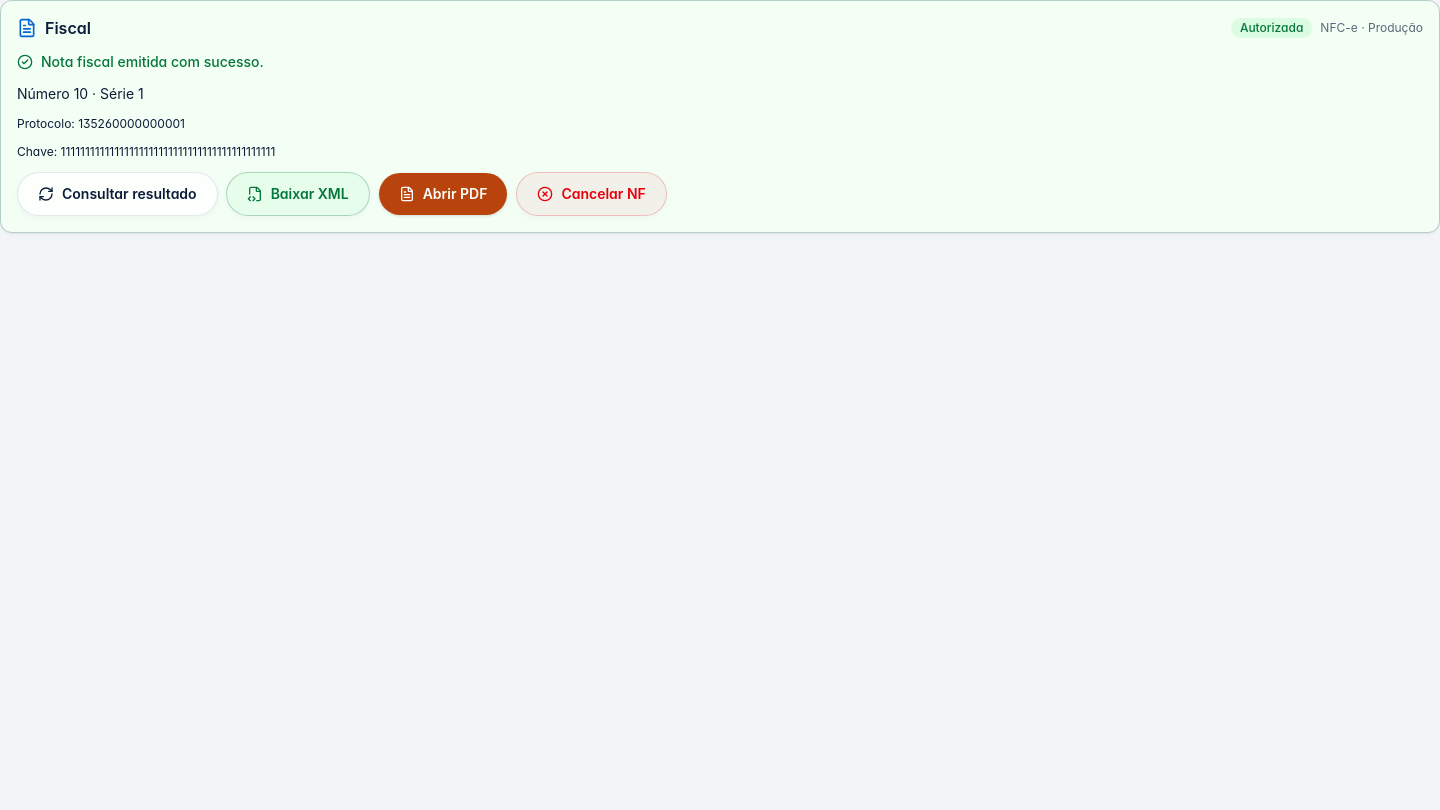
preserva arquivos e exibe recusa ou pendência de cancelamento (false) no resultado autorizado
Click the button "Cancelar NF" at [592, 194], box left=516, top=172, right=667, bottom=216
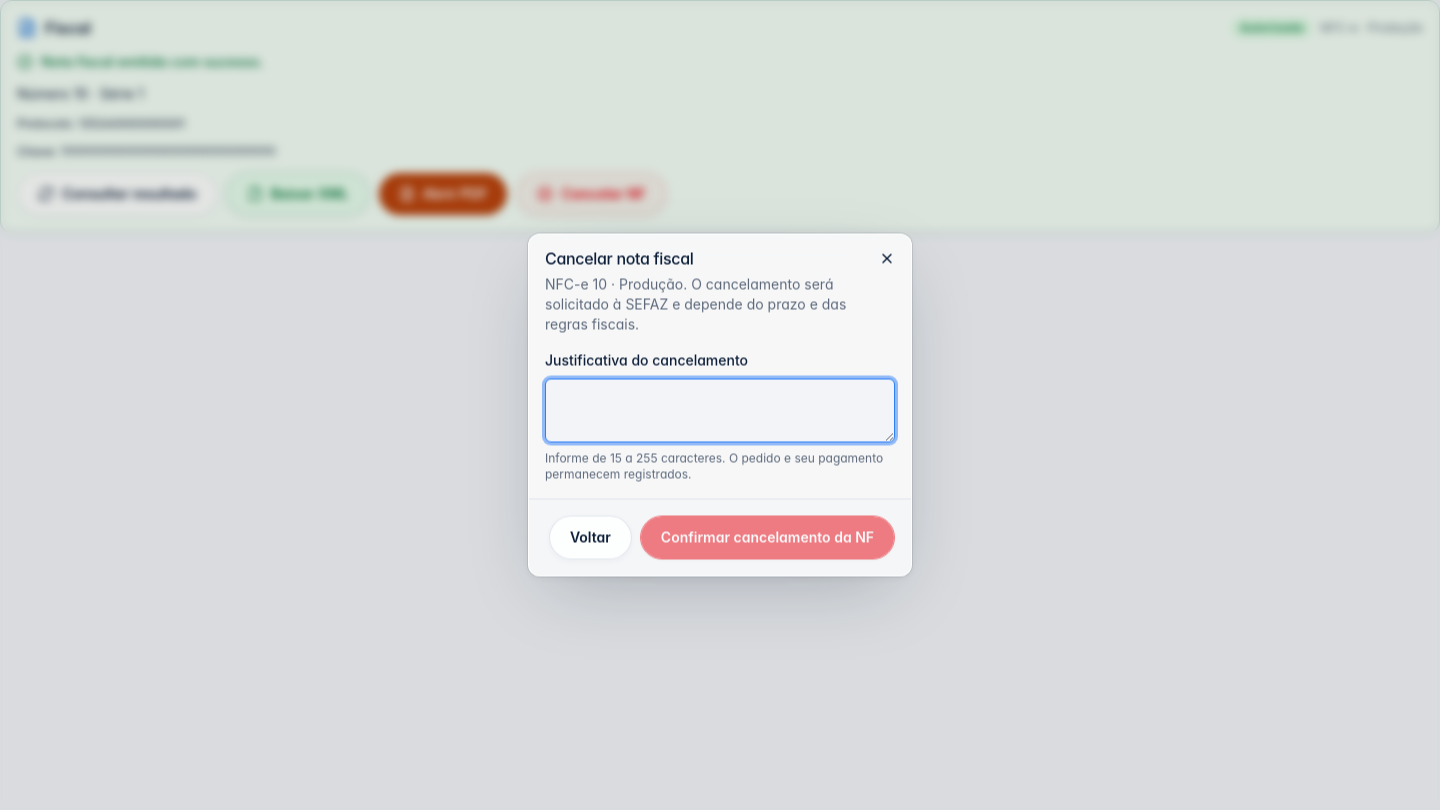
Type "Pedido duplicado pelo cliente." into the text box at [720, 410], box left=545, top=378, right=895, bottom=442
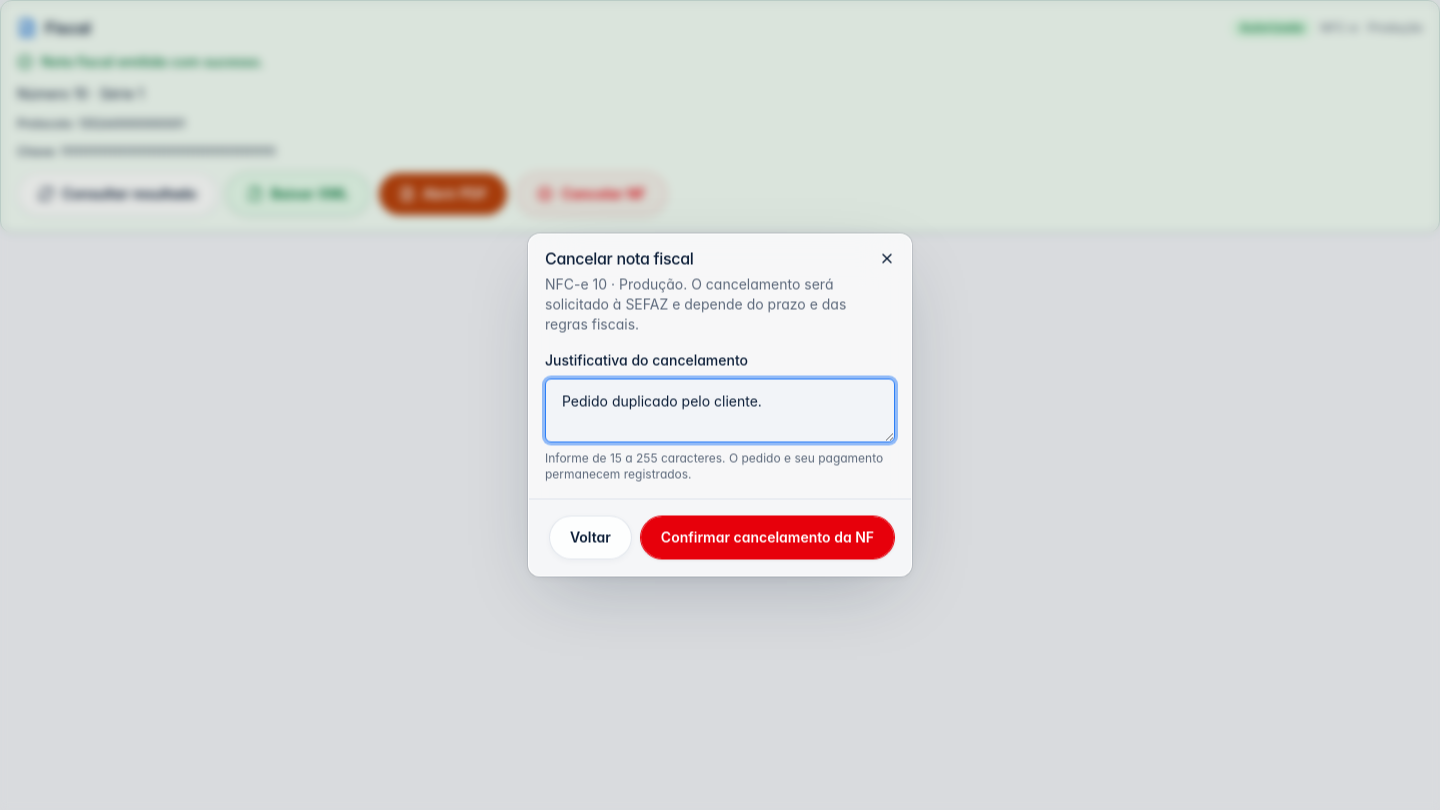
Click the button "Confirmar cancelamento da NF" at [767, 538], box left=640, top=516, right=895, bottom=560
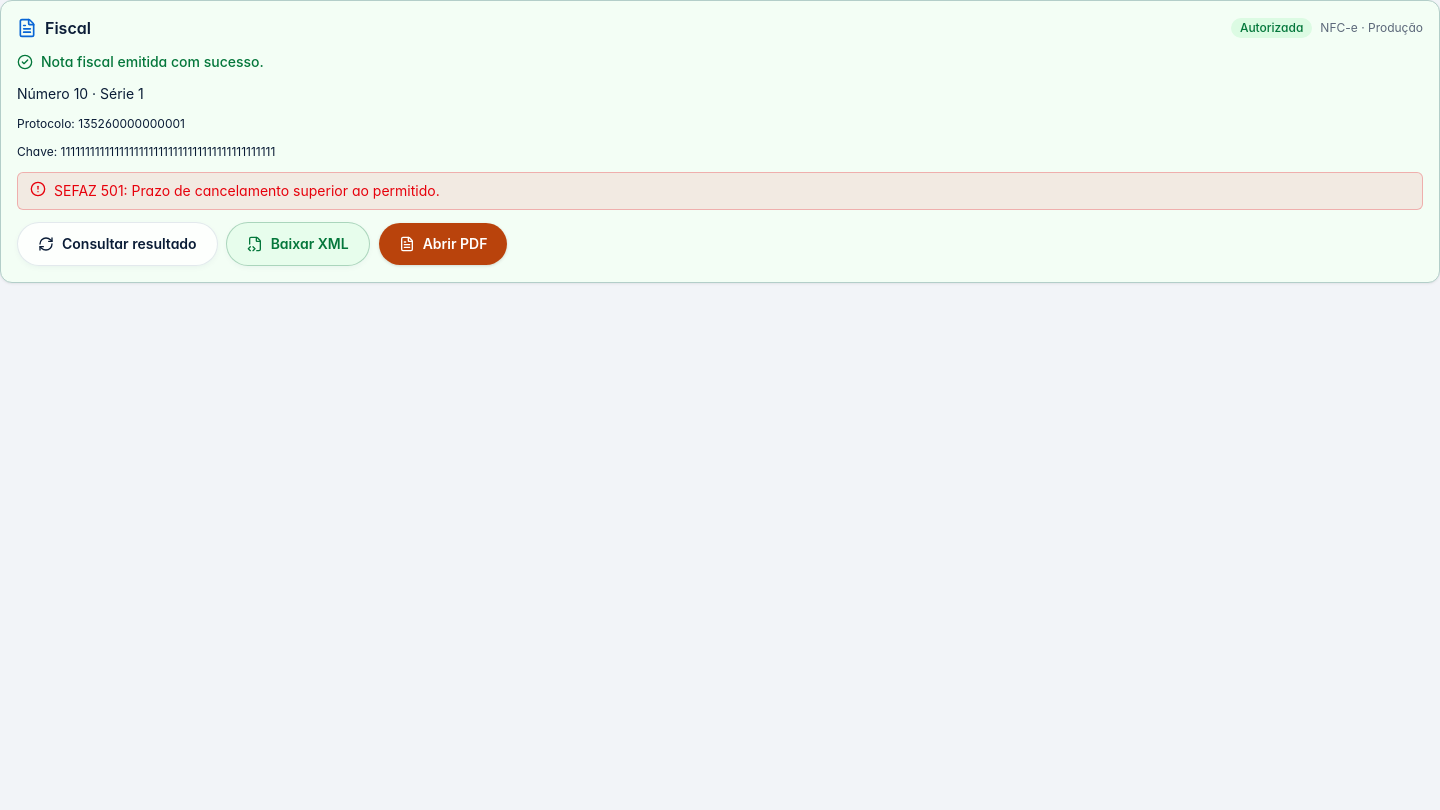
Expected: the link "Abrir PDF" is shown, left=378, top=222, right=508, bottom=266
Expected: the message "SEFAZ 501: Prazo de cancelamento superior ao permitido." is shown, left=17, top=172, right=1423, bottom=210
Expected: the button "Cancelar NF" is gone
